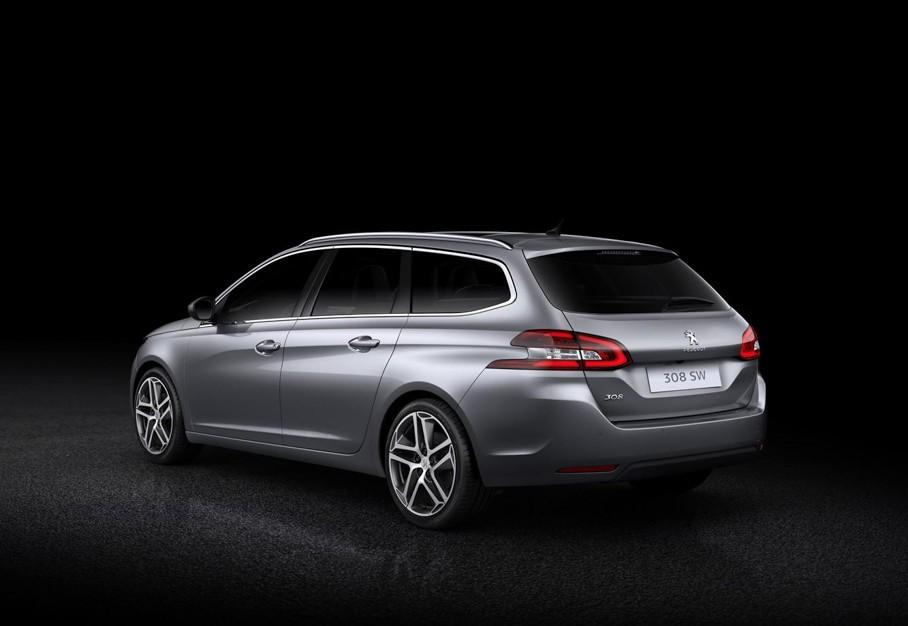Wagon: (128, 230, 770, 533)
